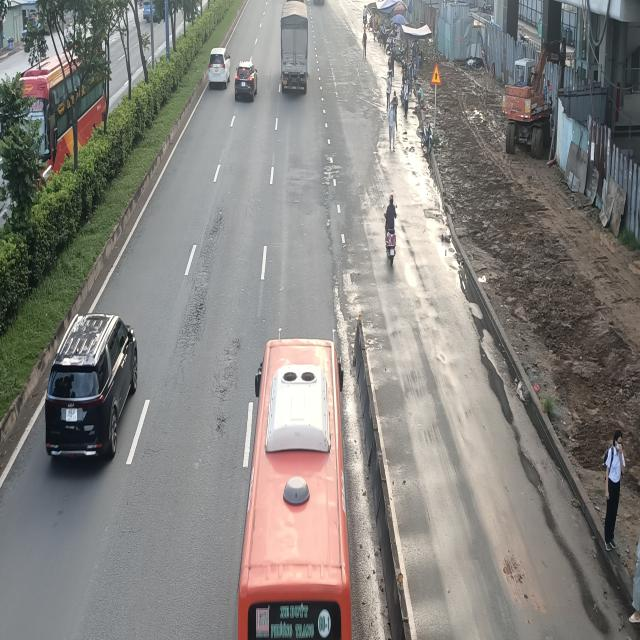car: (42, 311, 138, 460), (234, 61, 259, 103), (208, 48, 231, 90)
coach: (235, 334, 351, 636)
truck: (280, 0, 308, 93)
